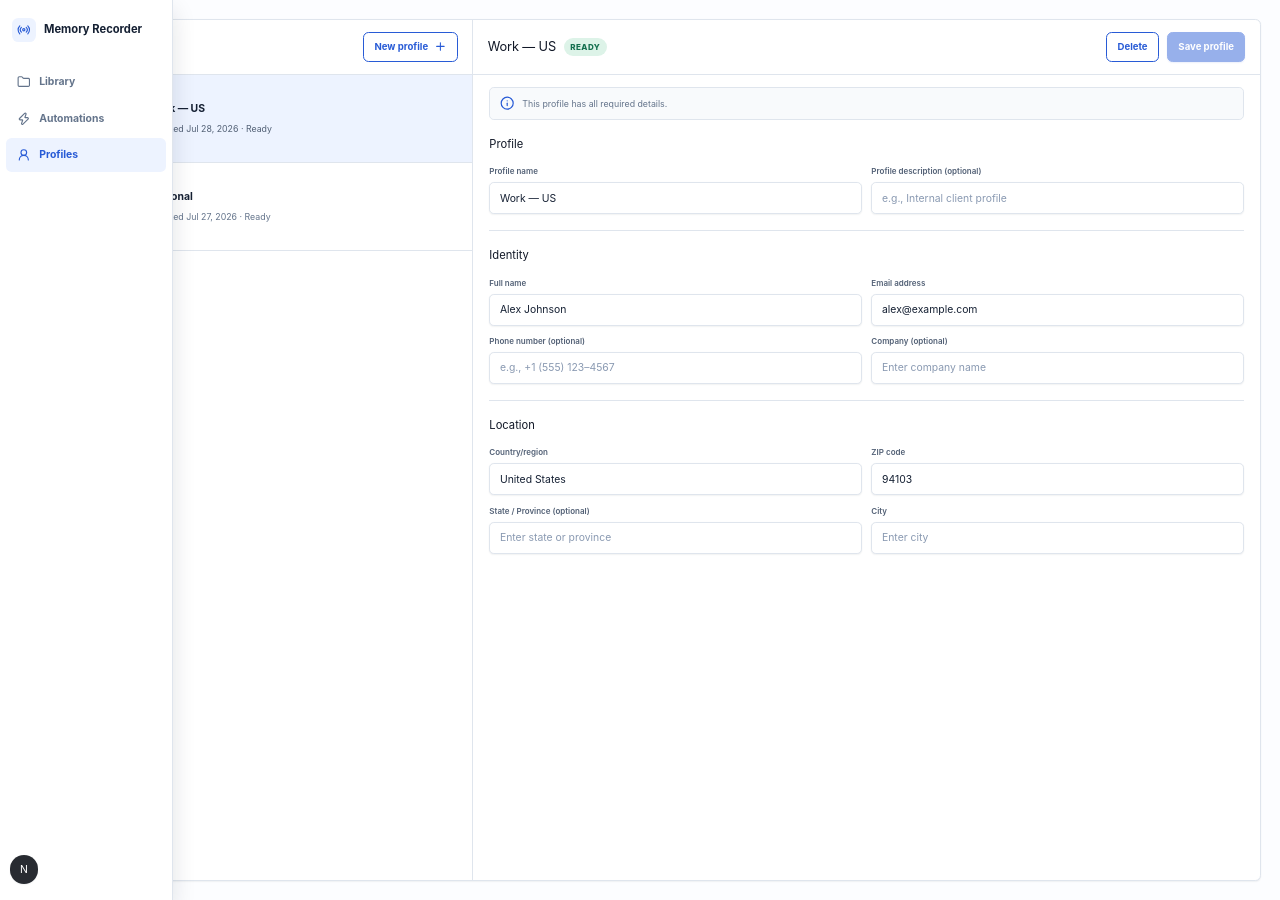
ProfileScreen › confirms permanent deletion and selects the next profile
Expected: the field showing "Alex Johnson" is shown, [489,294,862,326]
What coordinates should you click on to do the following:
click the button "Delete"
I would click on:
 (1133, 47)
Its box is [1106,32,1159,62].
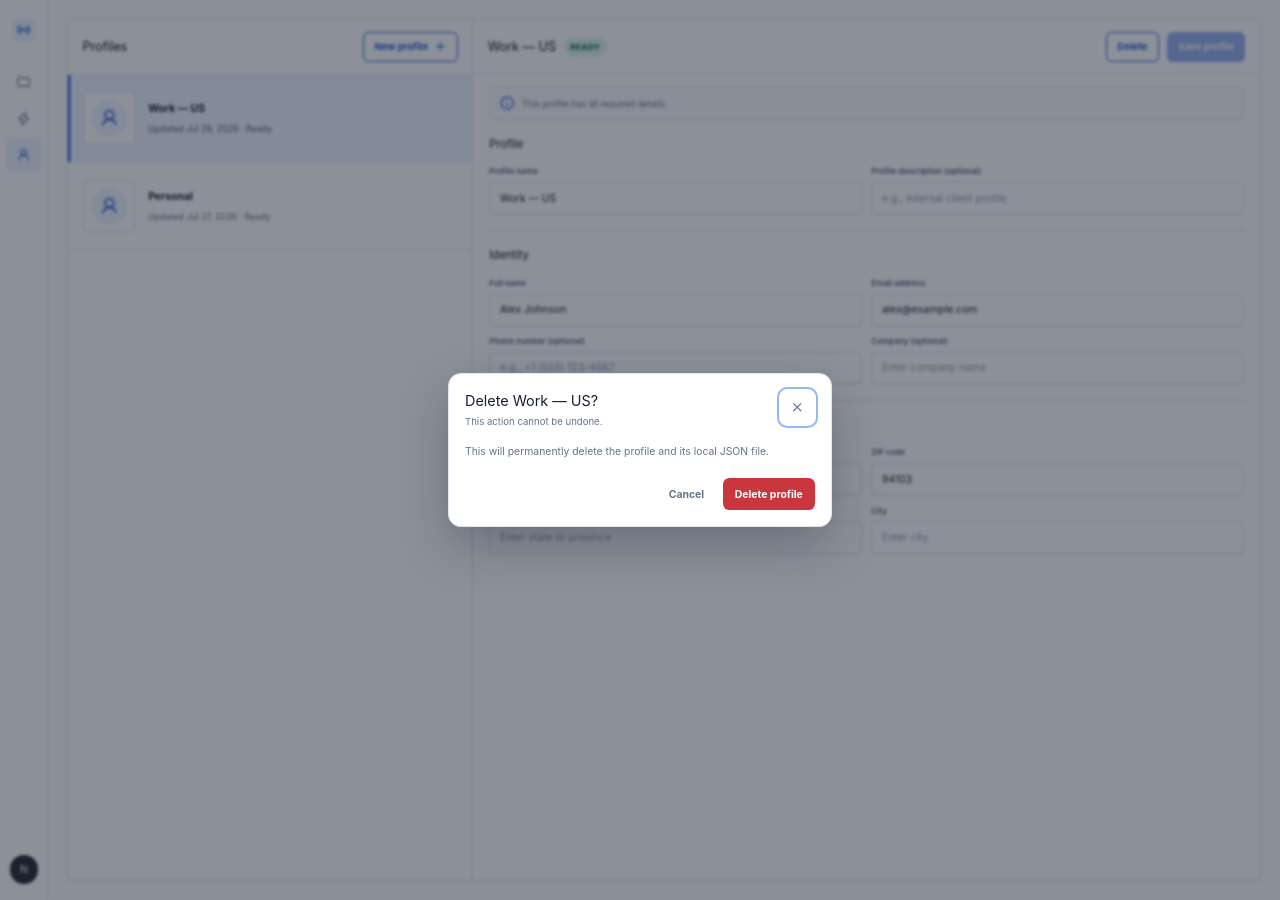
Now the text "permanently delete" is shown, box [465,445,769,458]
What coordinates should you click on to do the following:
click the button "Delete profile"
I would click on:
 (769, 494)
Its box is [723,478,815,510].
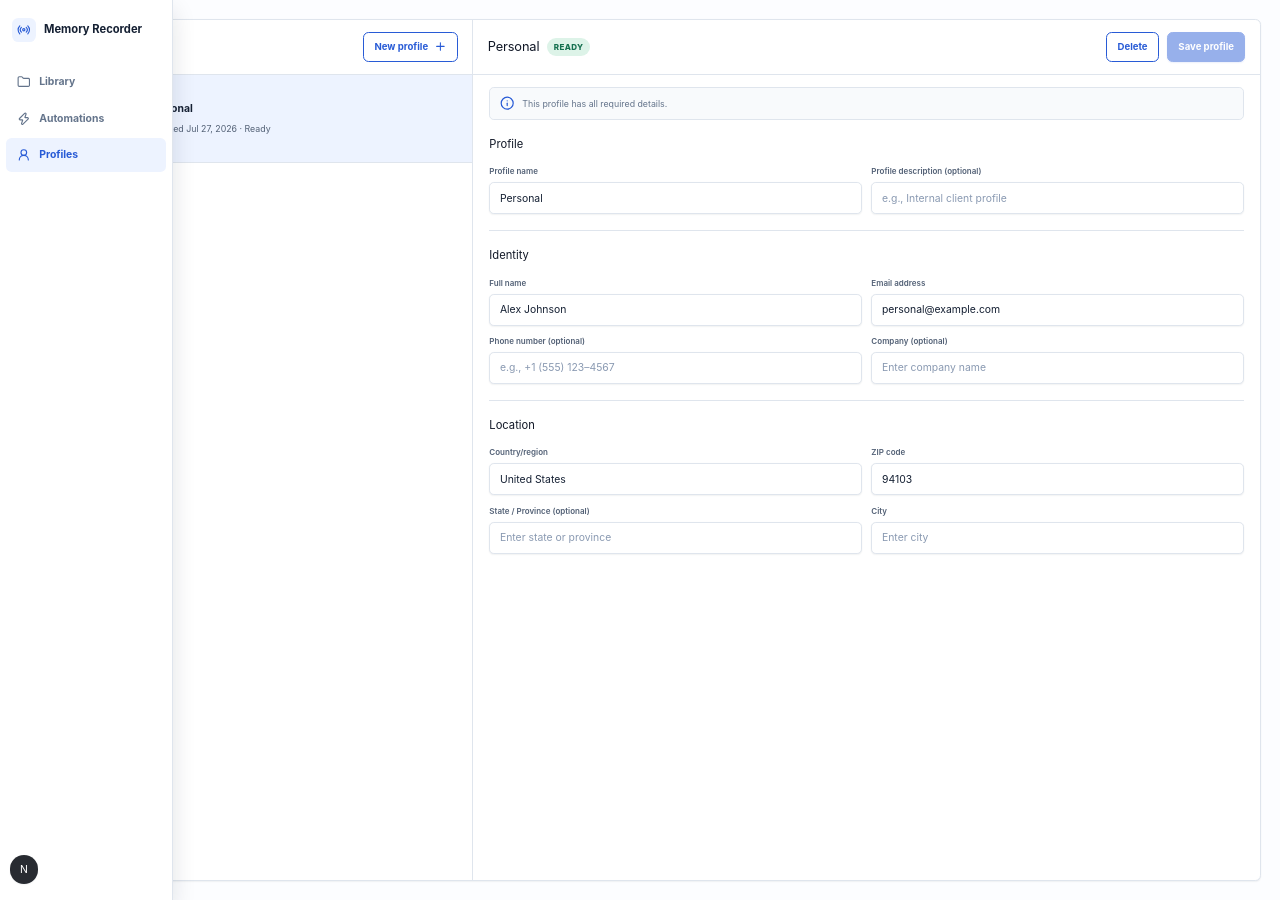
Now the field labelled "Email address" holds "personal@example.com", box [871,294,1244,326]
